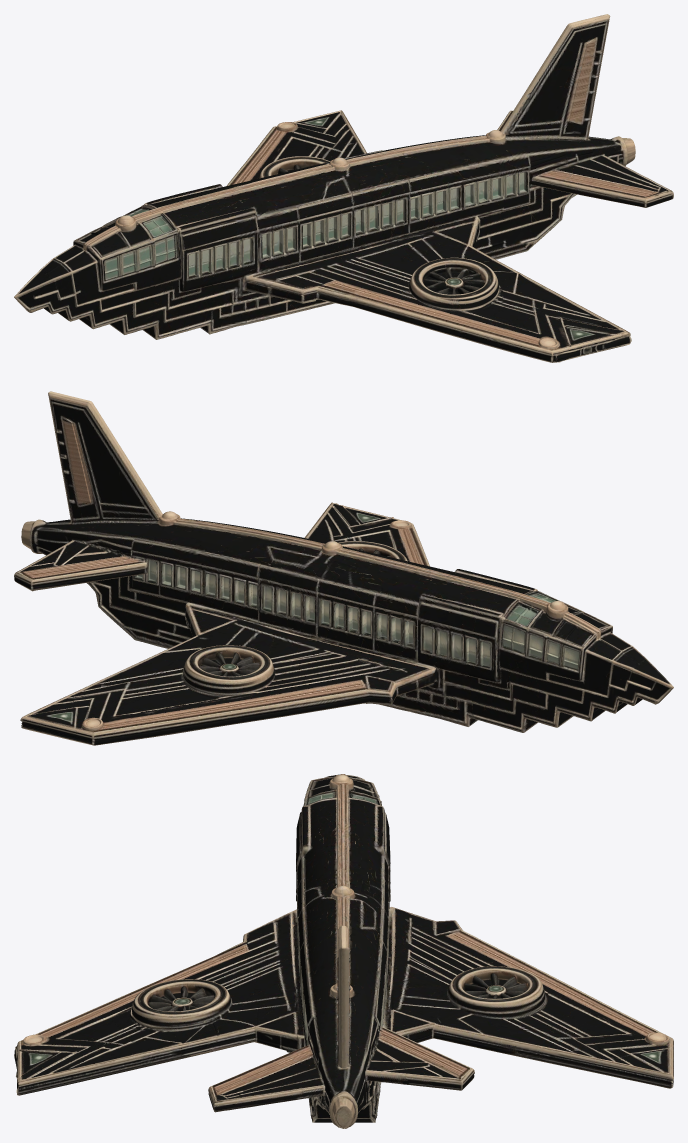
Rendered from clipper.glb.
The picture shows the model from 3 angles, top to bottom: view 1: azimuth 30°, elevation 25°; view 2: azimuth 150°, elevation 25°; view 3: azimuth 270°, elevation 25°; orthographic projection. The views are drawn at different scales.
Size of the model in its own units: 1.9 by 0.6071 by 1.57.
1 material, 1 textured.
